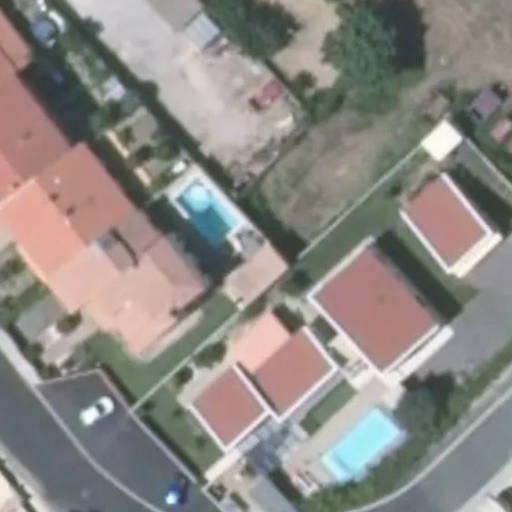pool: (229, 229, 282, 254)
